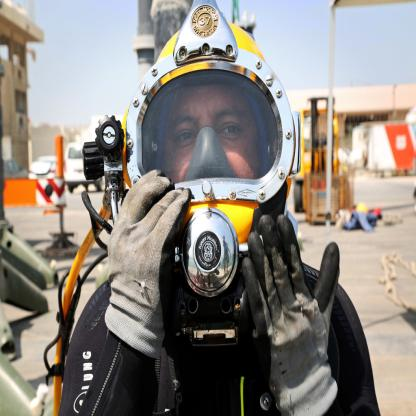Helmet: (121, 0, 297, 345)
